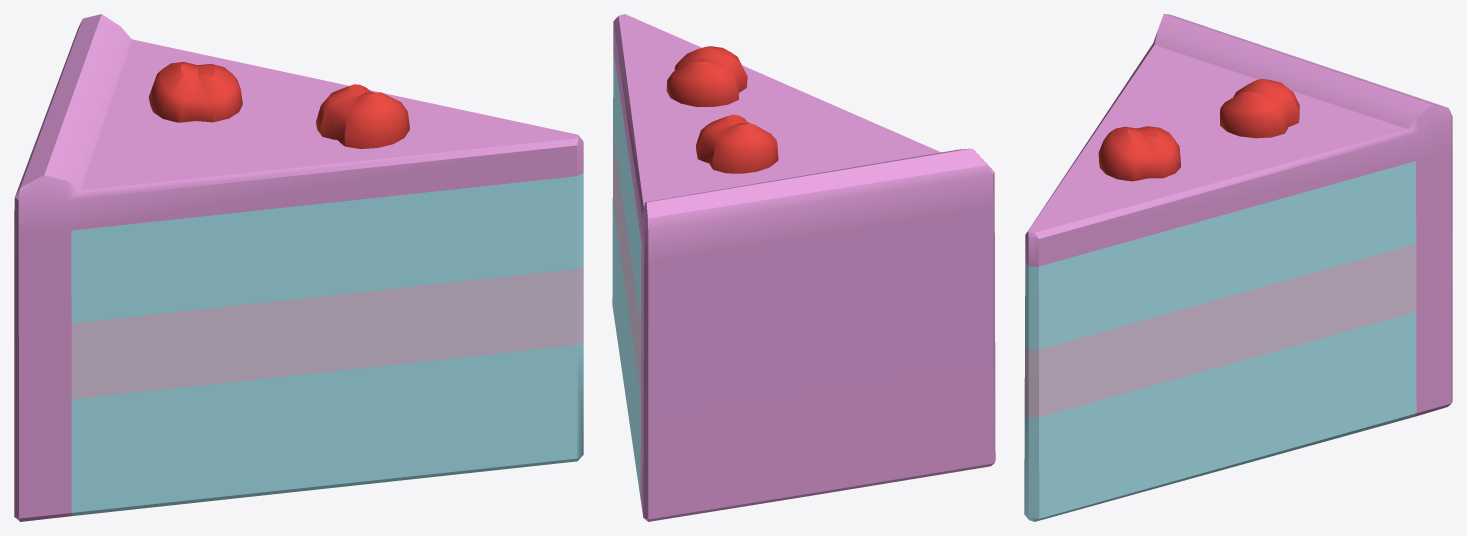
File: cake-slice.glb
3 views of the same model, side by side, from view 1: azimuth 30°, elevation 25°; view 2: azimuth 150°, elevation 25°; view 3: azimuth 270°, elevation 25° (orthographic). The views are drawn at different scales.
Visible parts, largest first — view 1: cake; view 2: cake; view 3: cake.
Boxes of the visible parts, x1,y1,x2,y2 form: cake: (14,14,583,521); cake: (612,14,995,521); cake: (1024,14,1452,521).
Bounding box in the file's own units: 0.1418 × 0.1 × 0.1194.
